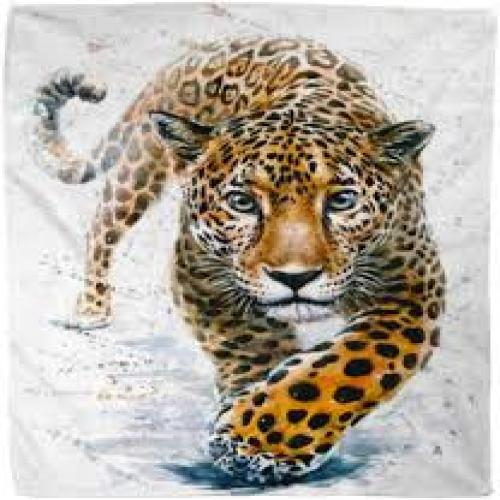jaguar_not-endangered: (34, 35, 454, 485)
